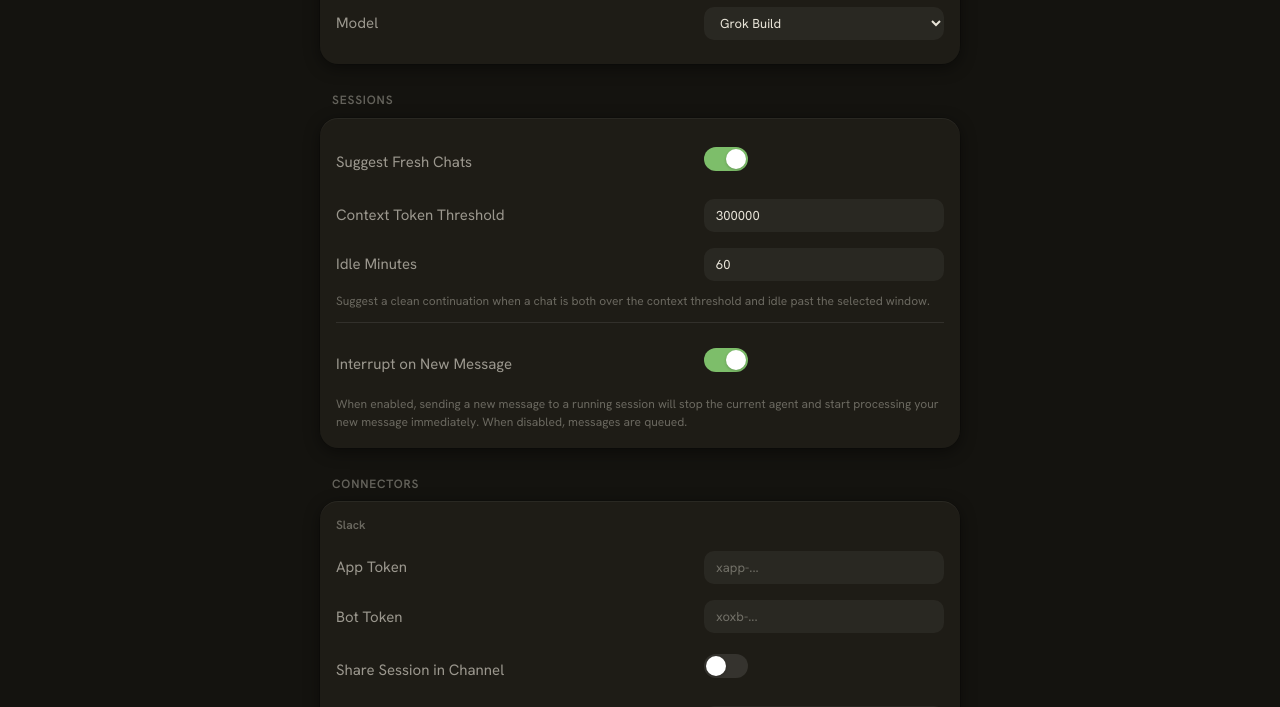
a save the daemon folded › leaves an edit queued during the write alone: that write brings its own answer
Click the switch named "Interrupt on new message".
click(726, 360)  # box [704, 344, 748, 378]
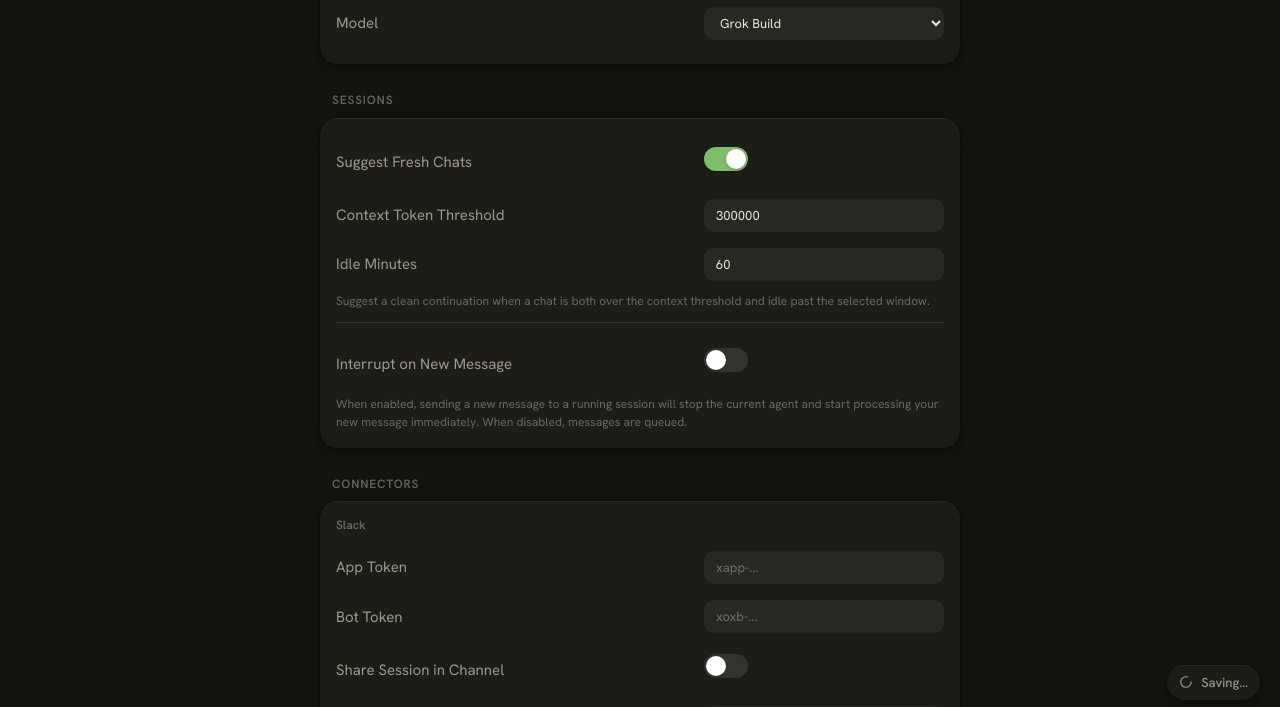
Note: A second edit while the first is in flight.
Click the switch named "Interrupt on new message".
click(726, 360)  # box [704, 344, 748, 378]
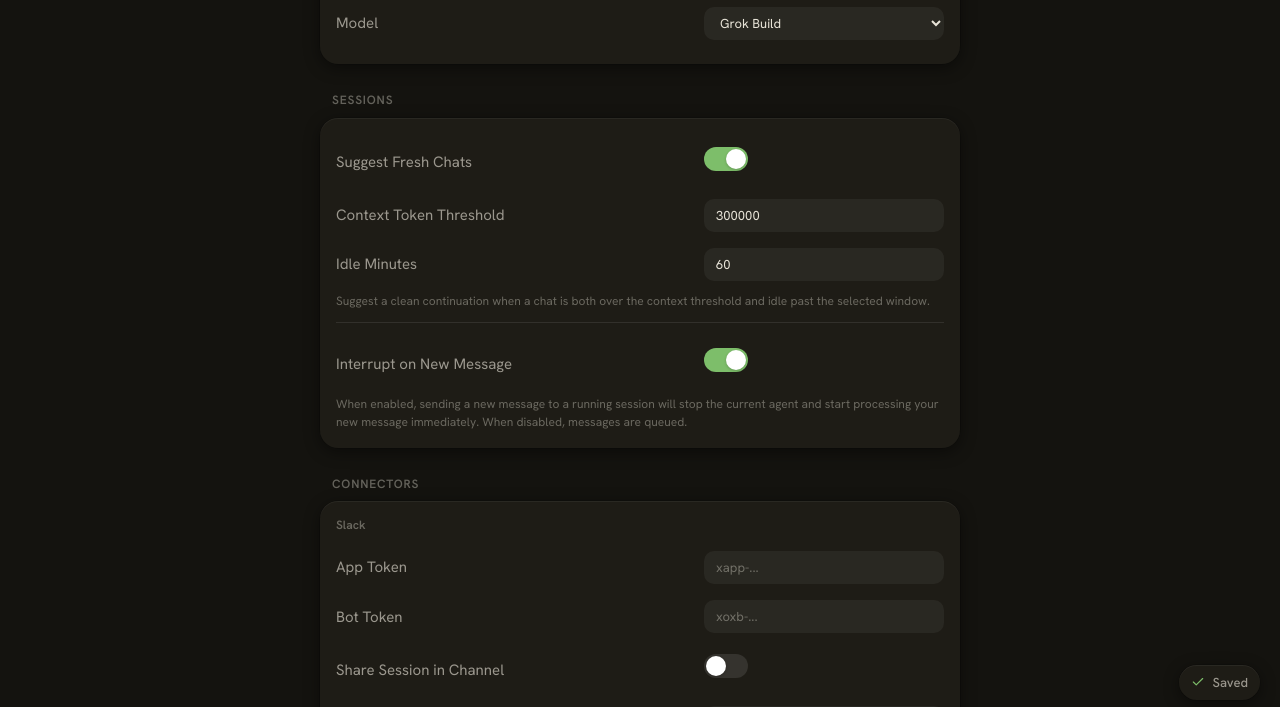
Check: the text "Saved" is shown, box [1212, 673, 1248, 692]
